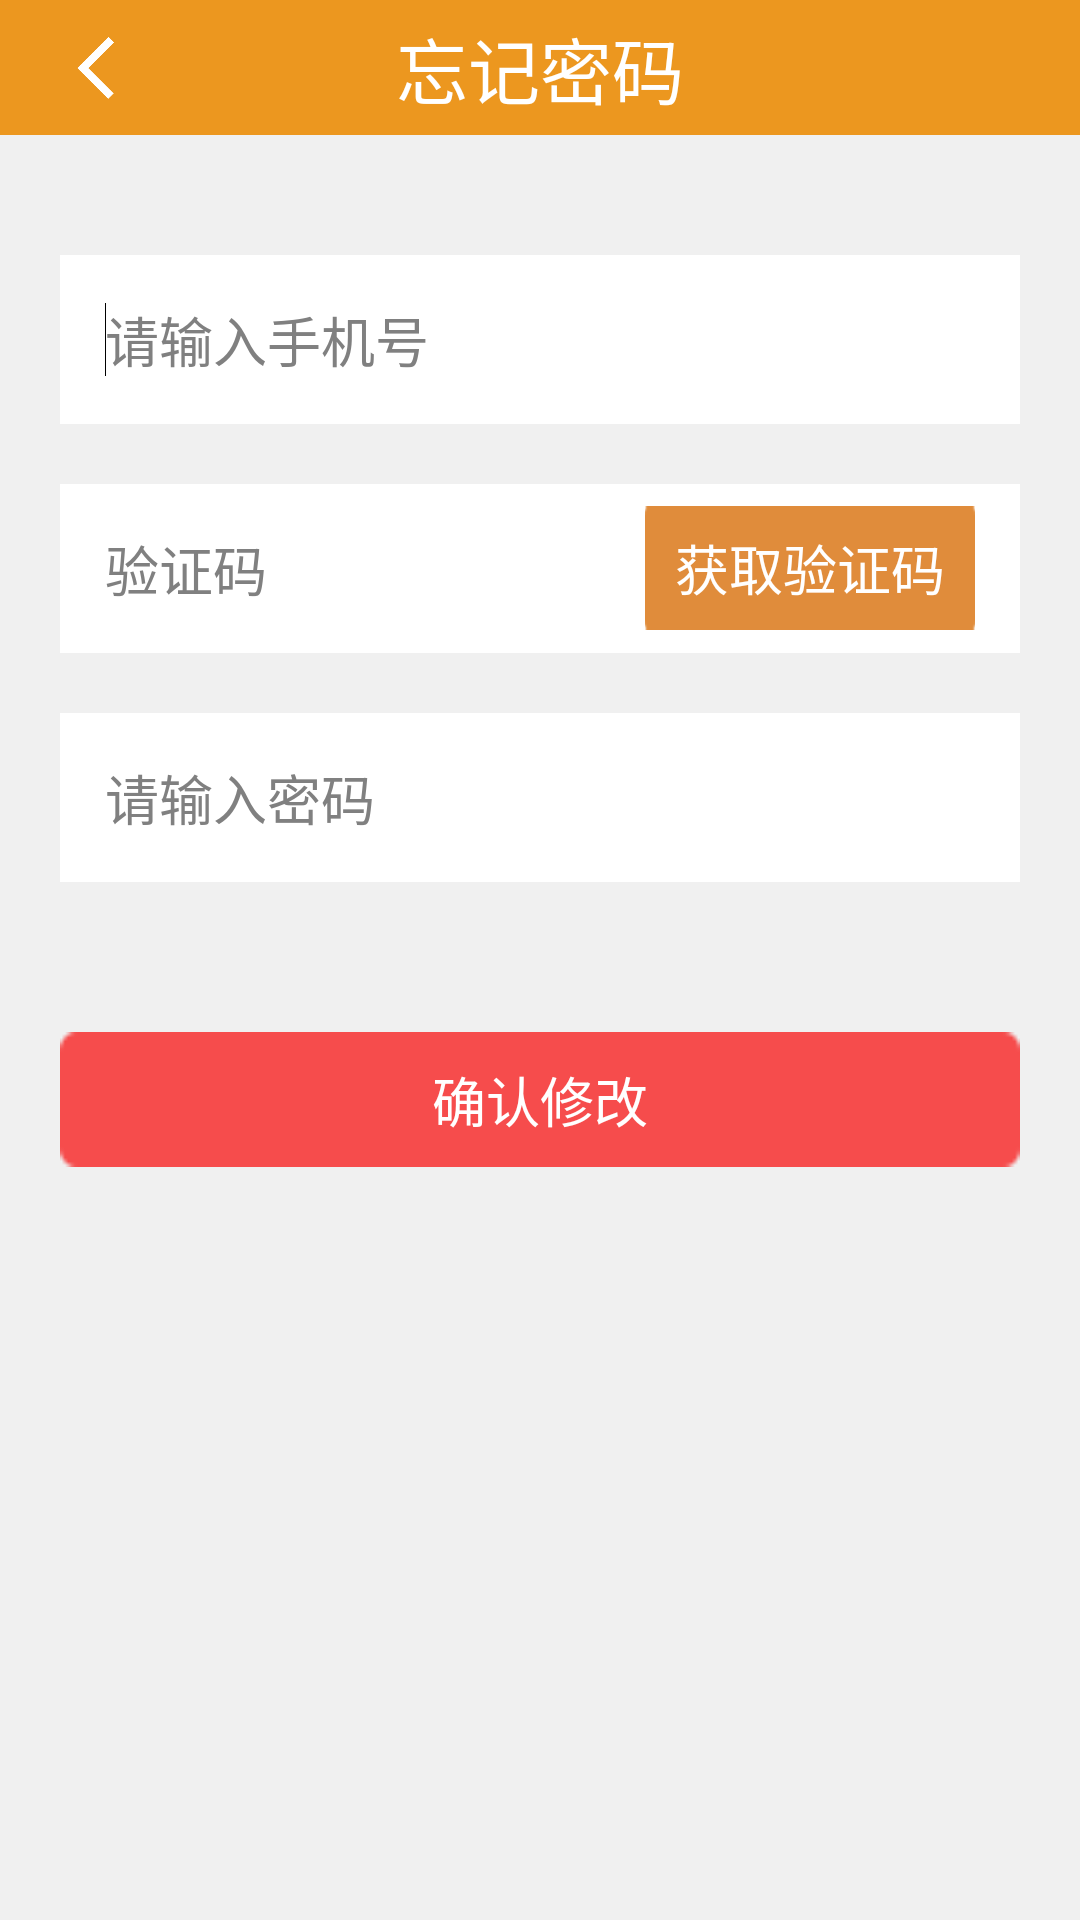

Icon bounding boxes for this 1080*1920 phone screenshot, format {"left": x1, "top": y1, "right": x2, "bottom": y2}:
back: {"left": 78, "top": 37, "right": 114, "bottom": 99}
